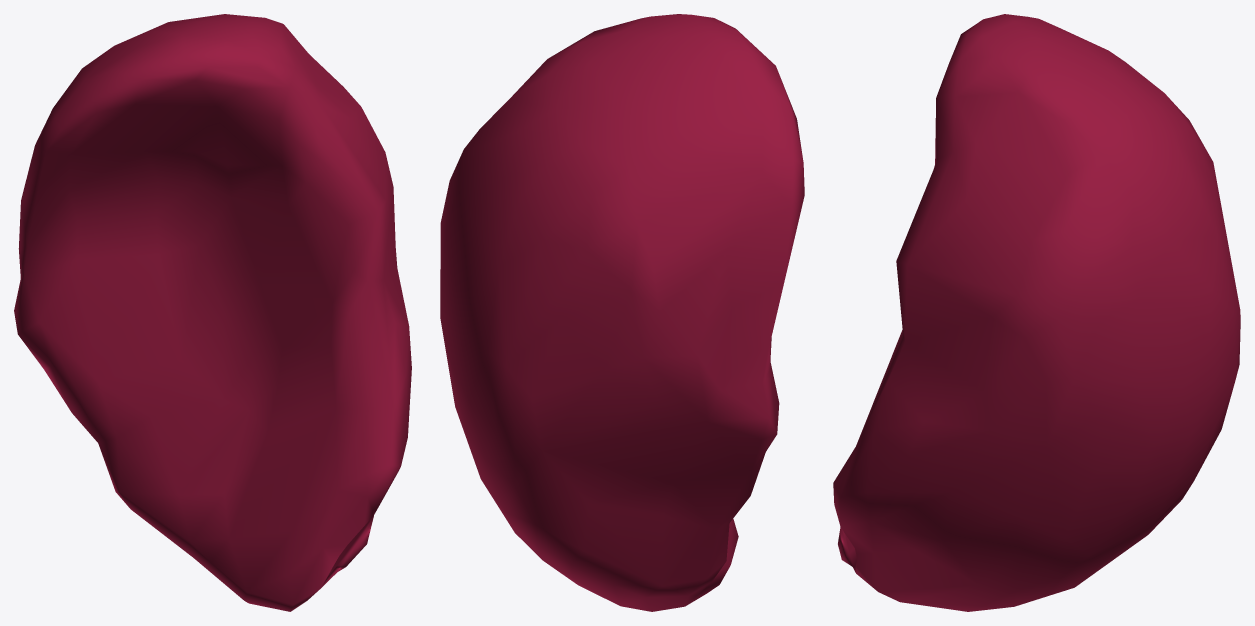
Rendered from spleen.glb.
3 renders of one model, left to right at view 1: azimuth 30°, elevation 25°; view 2: azimuth 150°, elevation 25°; view 3: azimuth 270°, elevation 25°, orthographic. The views are drawn at different scales.
Parts seen in each view (by area): view 1: Spleen_Milt; view 2: Spleen_Milt; view 3: Spleen_Milt.
Boxes of the visible parts, left/top/right/bottom form: Spleen_Milt: left=14, top=14, right=411, bottom=611; Spleen_Milt: left=440, top=14, right=804, bottom=611; Spleen_Milt: left=833, top=14, right=1240, bottom=611.
Bounding box in the file's own units: 4.8e-09 × 7.63e-09 × 4.98e-09.
